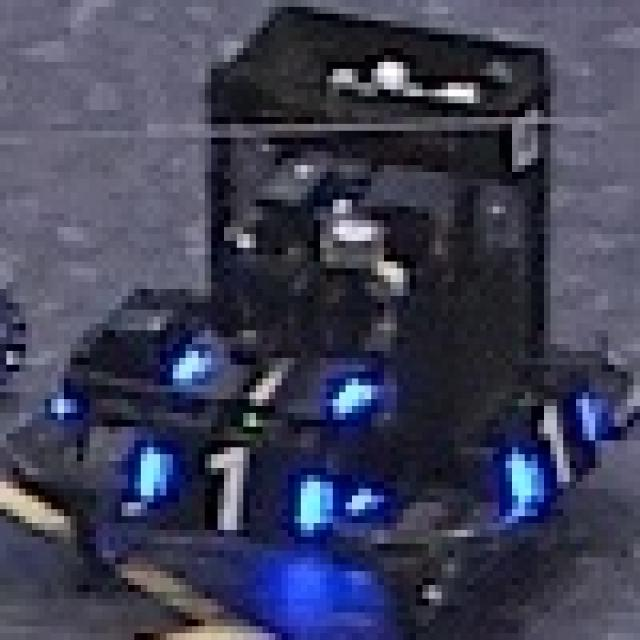B1: (128, 434, 326, 536)
